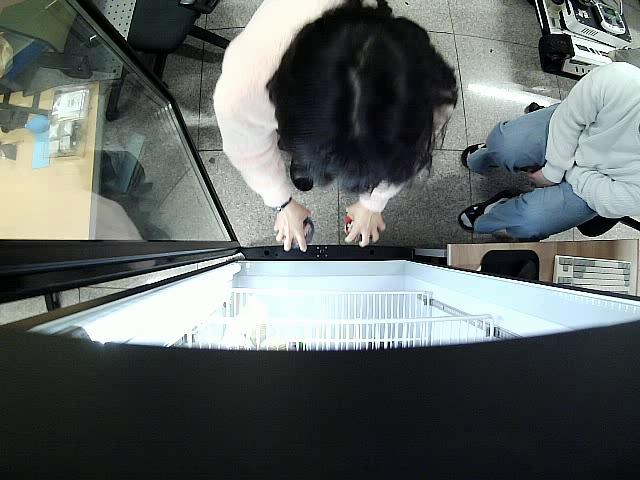00_hand: (345, 203, 385, 248), (274, 207, 313, 251)
08_buldak_S: (279, 217, 317, 252), (343, 215, 372, 243)
